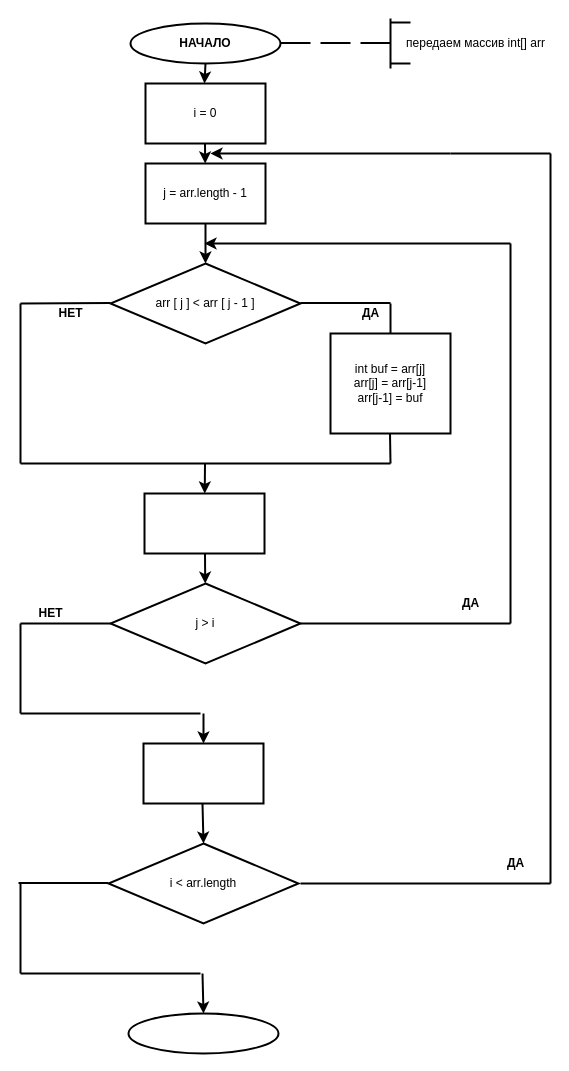
The diagram is 569 pixels wide and 1071 high, and some of its shapes have lost their labels. The shapes that lost their labels are listed below. From the top down, each one's centre as x and y in pixels, then its label:
At (204,523): "j = j - 1".
At (203,773): "i = i + 1".
At (203,1033): "КОНЕЦ".
